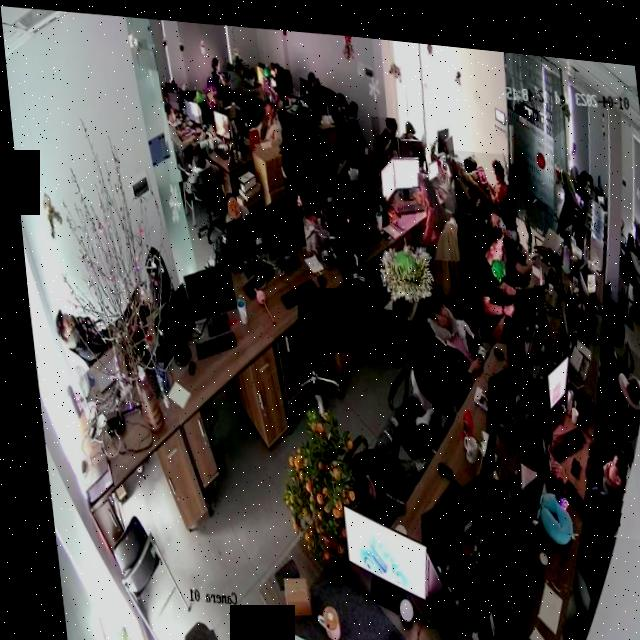person: (540, 424, 632, 528), (464, 213, 519, 336), (419, 288, 477, 368), (448, 139, 514, 207), (408, 162, 455, 253), (484, 195, 530, 280), (159, 96, 198, 180), (241, 82, 285, 149), (437, 142, 468, 206), (224, 49, 262, 101), (368, 108, 399, 148), (203, 51, 229, 98)
